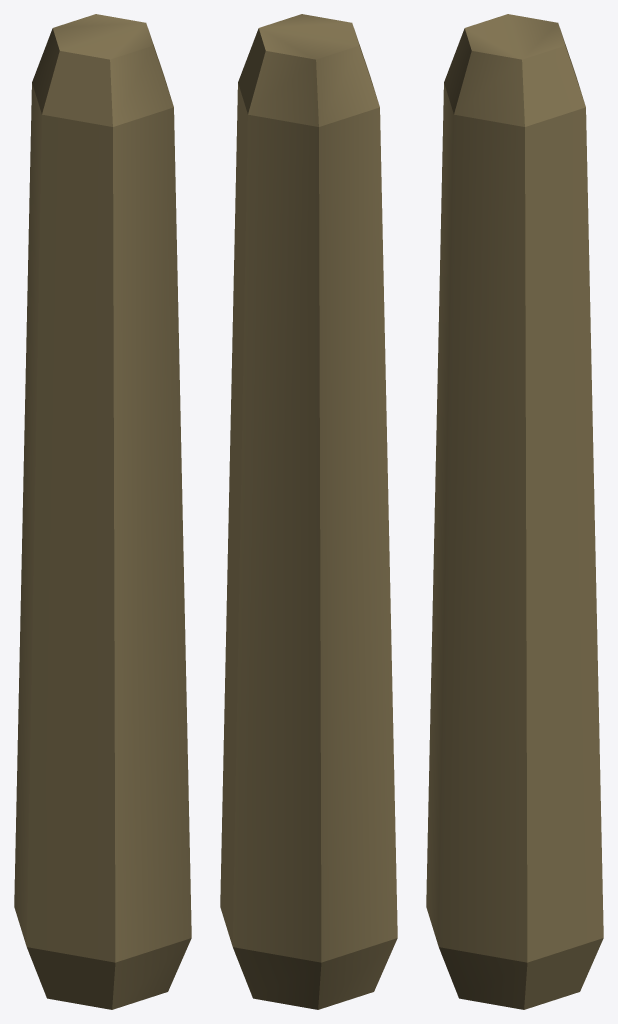
Rendered from 2066_StoneSeal_Trigger_GeoPillar.fbx.
3 views of the same model, side by side, from view 1: azimuth 30°, elevation 25°; view 2: azimuth 150°, elevation 25°; view 3: azimuth 270°, elevation 25° (orthographic).
Visible parts, largest first — view 1: PART_GeoPillarUnevenFacets; view 2: PART_GeoPillarUnevenFacets; view 3: PART_GeoPillarUnevenFacets.
Part boxes in pixels (x1=…): PART_GeoPillarUnevenFacets: x1=14, y1=14, x2=191, y2=1009; PART_GeoPillarUnevenFacets: x1=220, y1=14, x2=397, y2=1009; PART_GeoPillarUnevenFacets: x1=426, y1=14, x2=603, y2=1009.
Bounding box in the file's own units: 59.49 × 325 × 55.41.
